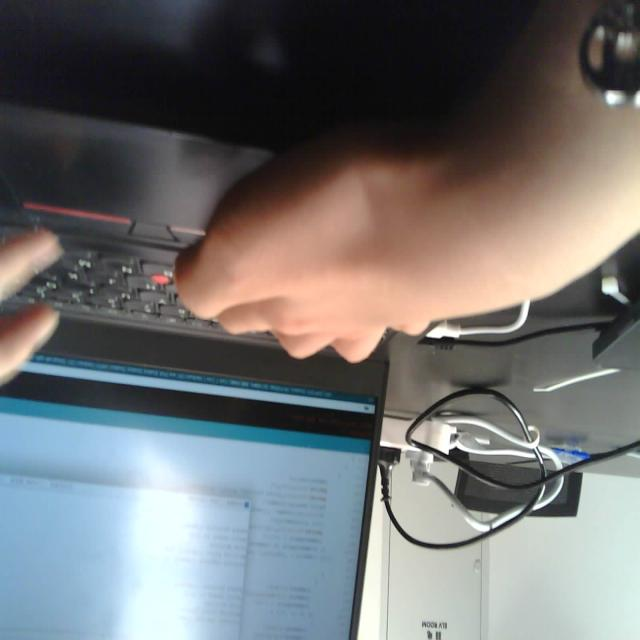keyboard-with-hands: (0, 96, 398, 354)
